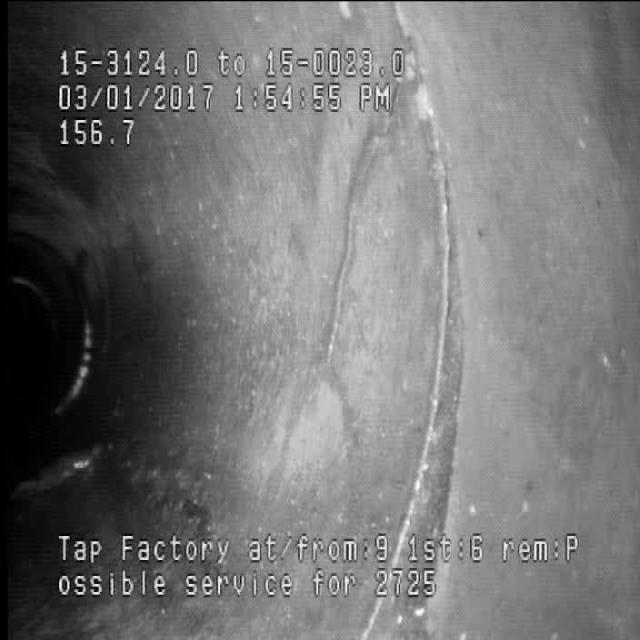Crack: (245, 133, 404, 509)
